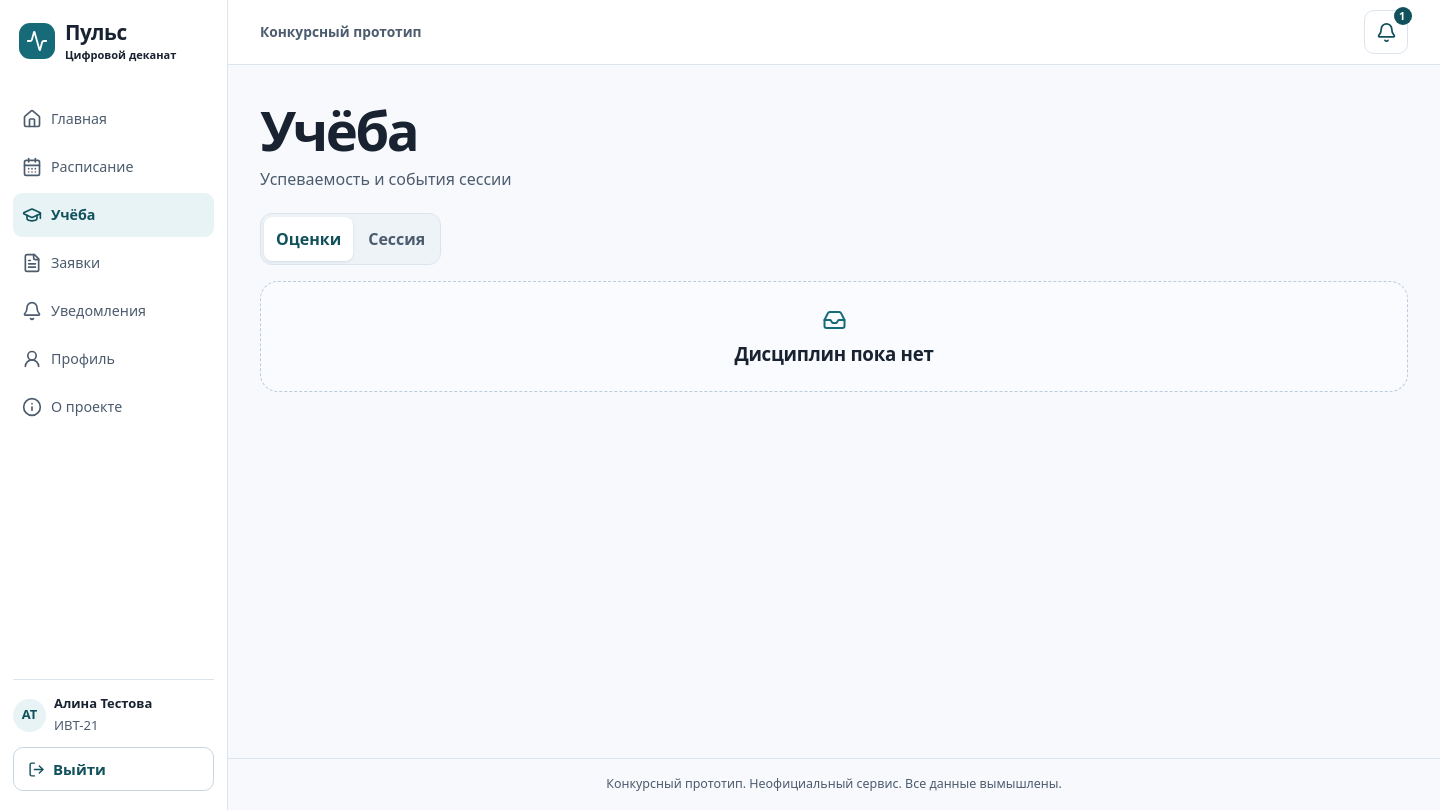
Test case: Расписание и успеваемость › различает отсутствие дисциплин и пустой календарь сессии
The image size is (1440, 810).
Expected: the heading "Дисциплин пока нет" is shown, [734,342,934,365]
Click the button "Сессия" at (397, 239), box [356,217,437,261]
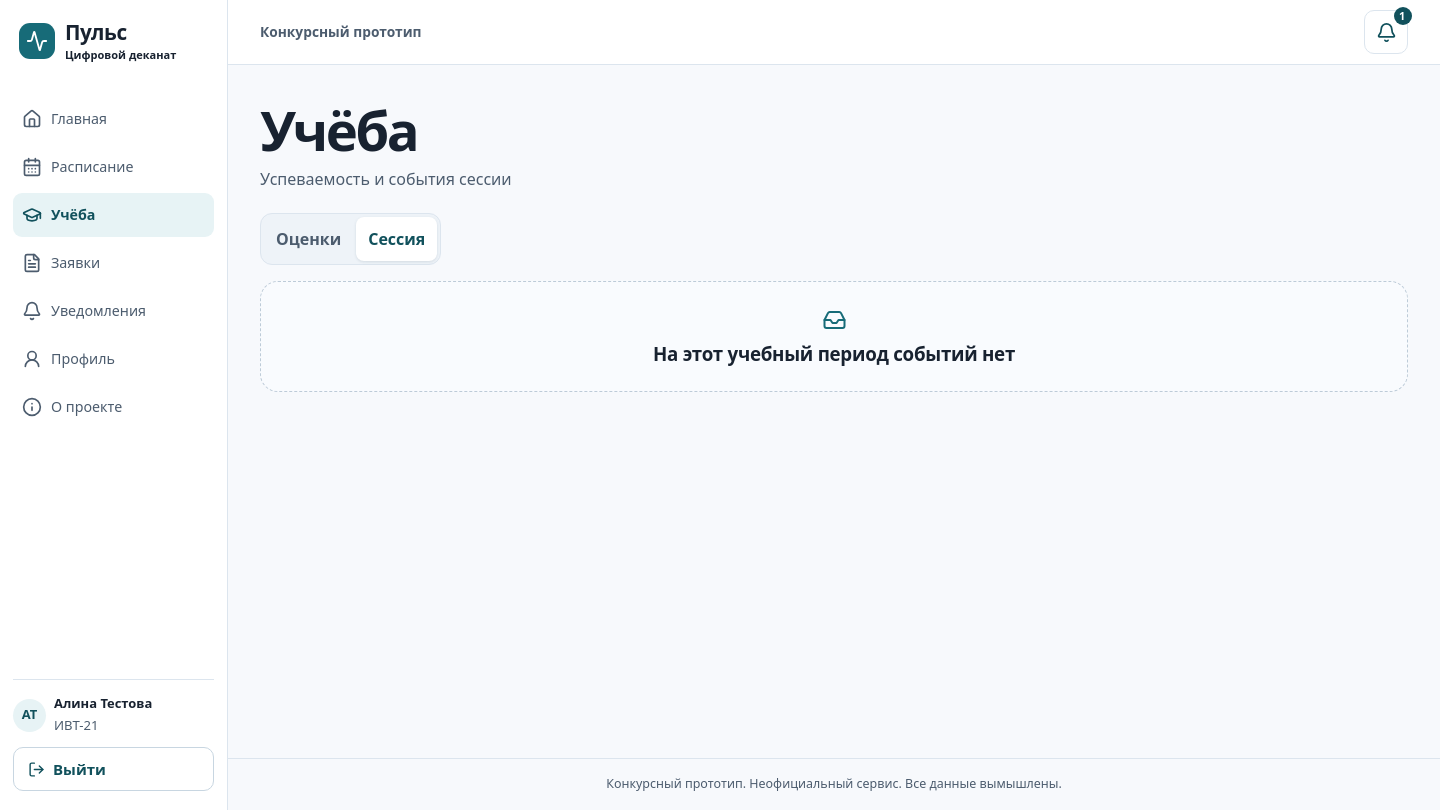
Now the heading "На этот учебный период событий нет" is shown, box [653,342,1015,365]
